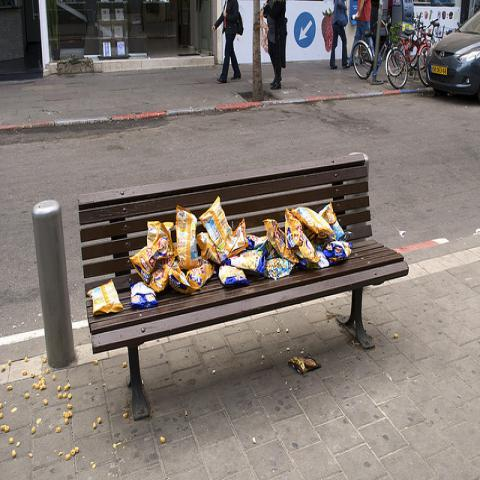car: (426, 8, 479, 104)
